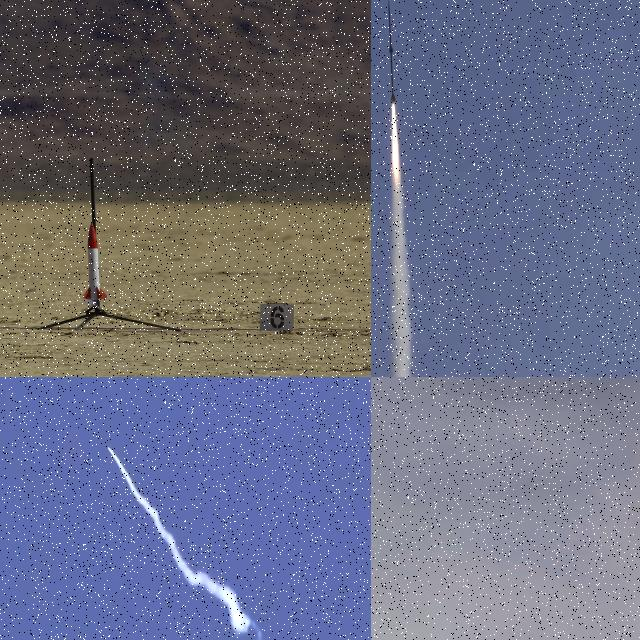Rocket: (81, 220, 108, 302), (387, 0, 396, 104), (106, 442, 109, 448)
